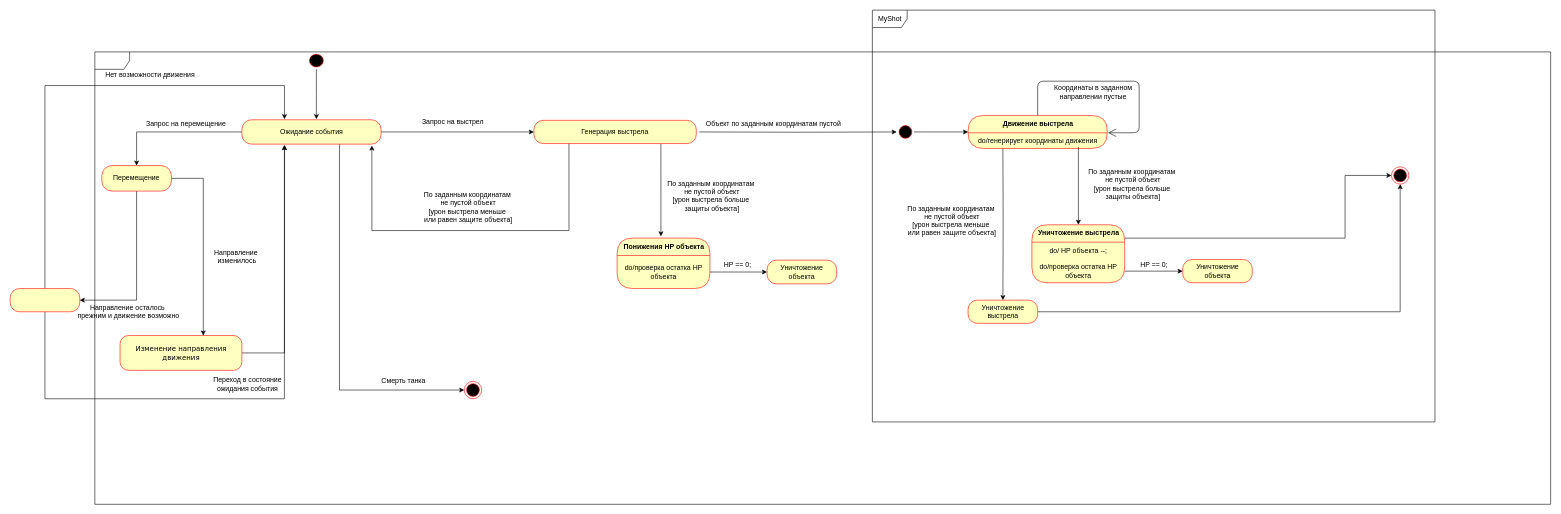
Image size: 1561x514. Some labels were removed from this diagram. Here are the shapes that lost their labels. From the top down, the centre of each, then its label:
the point at 822,277: MyTank
the point at 45,300: Движение
